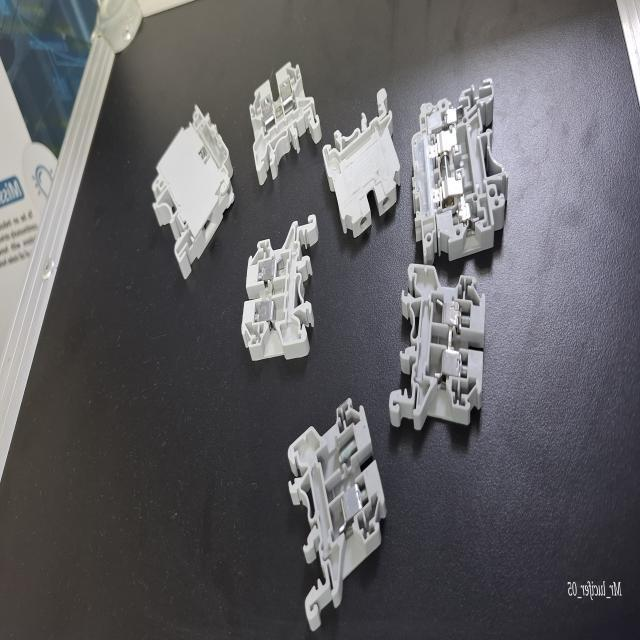Inverted: (322, 58, 407, 248)
Pass: (380, 265, 500, 452), (232, 201, 324, 396), (242, 40, 320, 202)
Reject: (275, 373, 383, 640)
